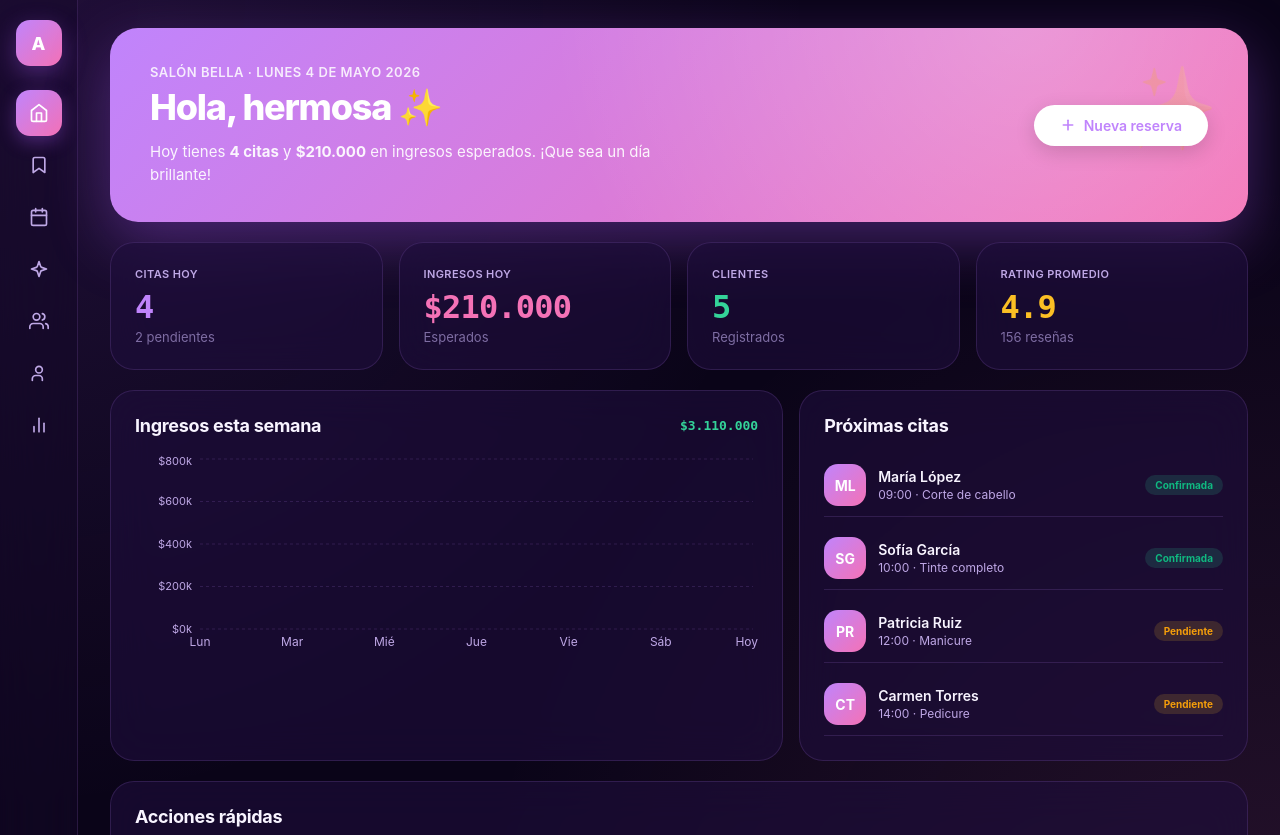
Test case: AgendaPro App › navigates to Reservas and lists seeded bookings
Click the button named "Reservas" at {"x": 38, "y": 165}, box [16,142,62,188]
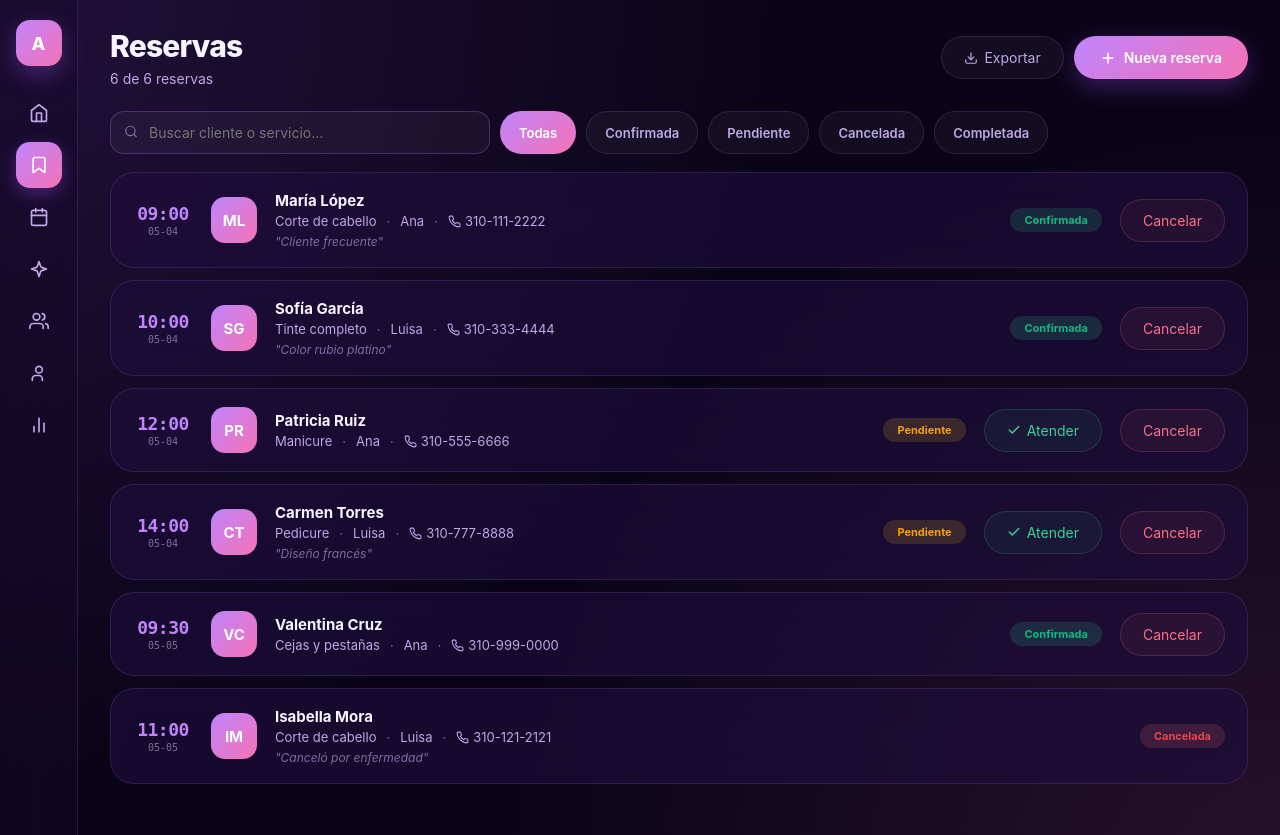
Now the text "María López" is shown, box [275,191,364,210]
Now the text "Sofía García" is shown, box [275,299,364,318]
